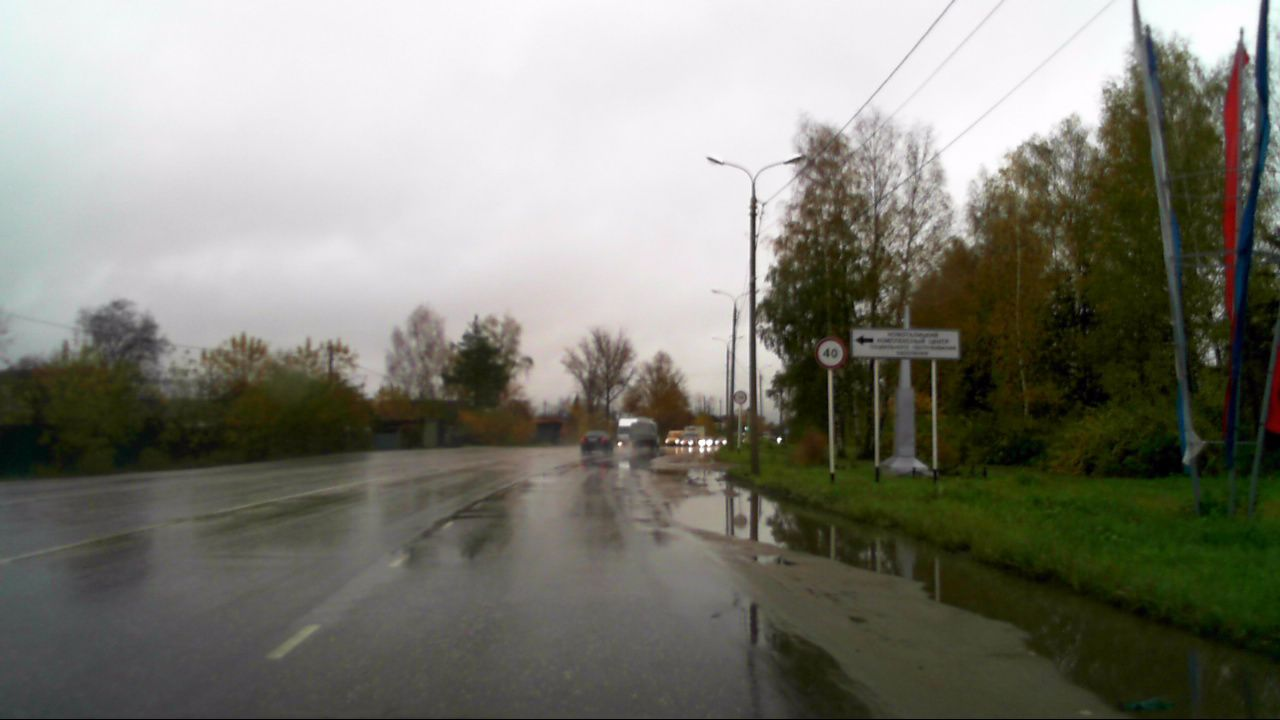speed_warning_40: (816, 337, 845, 367)
